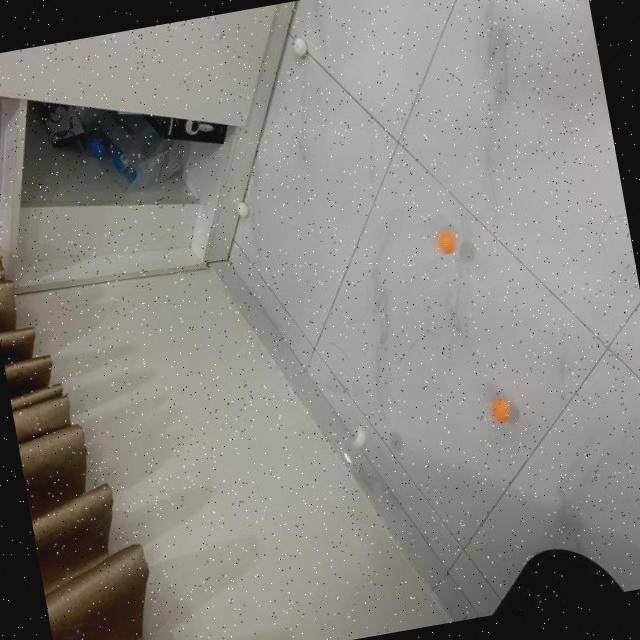ping-pong-ball: (429, 225, 456, 256), (487, 396, 512, 424), (345, 422, 368, 448), (288, 34, 308, 60), (230, 200, 250, 220)
